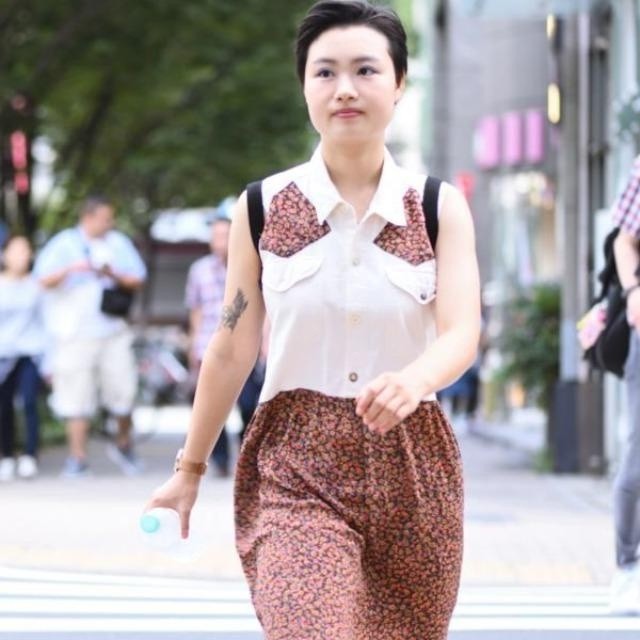Sin_Casco_Mascarrilla: (293, 0, 409, 147)
Sin_Chaleco: (243, 155, 465, 398)
